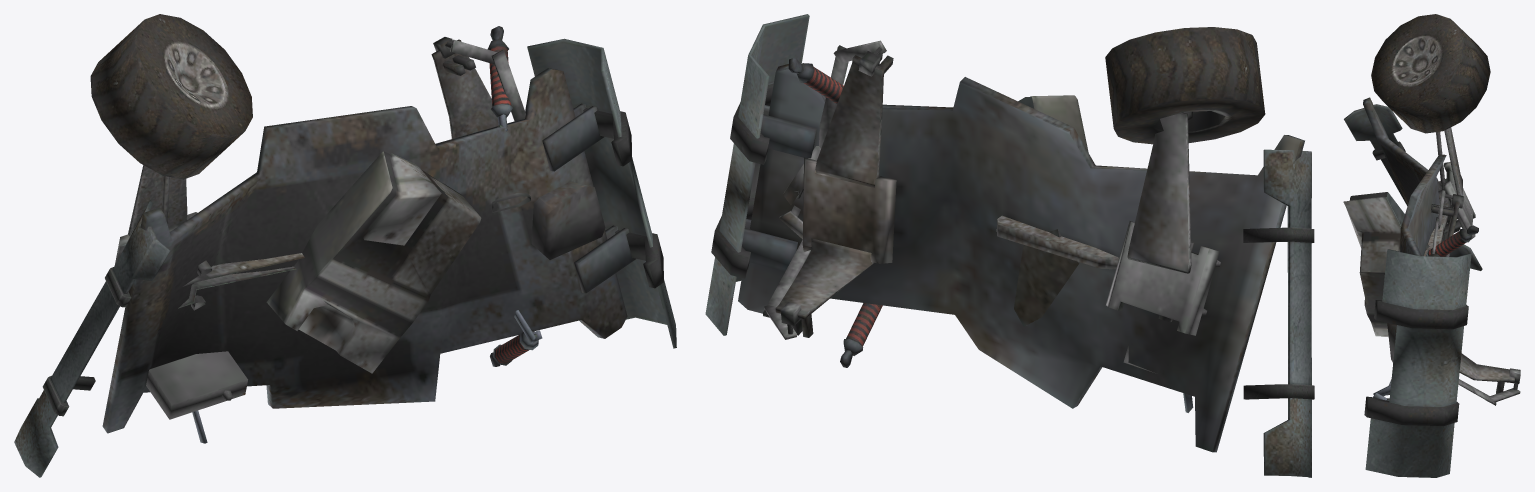
Rendered from t5_veh_rcbomb_gib_large_LOD0.obj.
3 renders of one model, left to right at view 1: azimuth 30°, elevation 25°; view 2: azimuth 150°, elevation 25°; view 3: azimuth 270°, elevation 25°, orthographic. The views are drawn at different scales.
Parts seen in each view (by area): view 1: mtl_t5_veh_rcbomb_allies; view 2: mtl_t5_veh_rcbomb_allies; view 3: mtl_t5_veh_rcbomb_allies.
Part boxes in pixels (x1=…): mtl_t5_veh_rcbomb_allies: x1=14, y1=14, x2=676, y2=477; mtl_t5_veh_rcbomb_allies: x1=705, y1=14, x2=1314, y2=477; mtl_t5_veh_rcbomb_allies: x1=1343, y1=14, x2=1520, y2=477.
Size of the model in its own units: 79.9 by 52.47 by 27.86.
